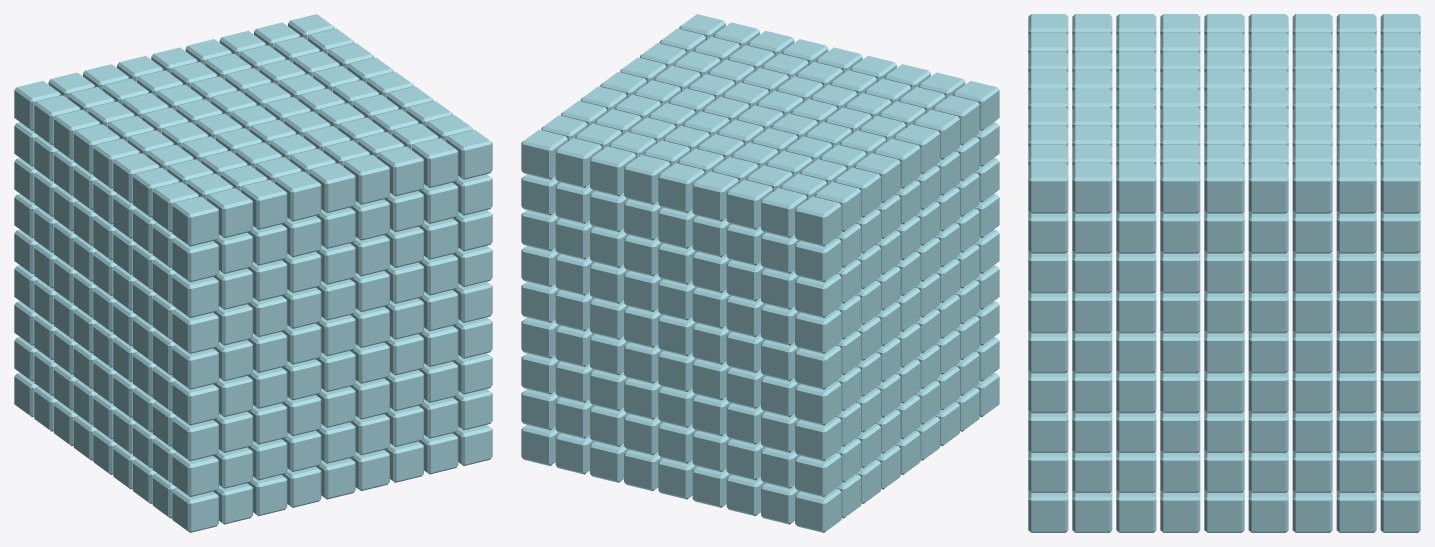
File: cubes.glb
3 views of the same model, side by side, from view 1: azimuth 30°, elevation 25°; view 2: azimuth 150°, elevation 25°; view 3: azimuth 270°, elevation 25° (orthographic). The views are drawn at different scales.
Parts seen in each view (by area): view 1: Cube; view 2: Cube; view 3: Cube.
Part boxes in pixels (x1,y1,x2,y2): Cube: (14, 14, 492, 532); Cube: (521, 14, 999, 532); Cube: (1028, 14, 1420, 532).
Bounding box in the file's own units: 19.6 × 19.6 × 19.6.
